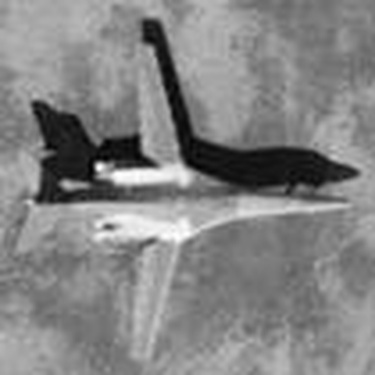airplane: (12, 17, 364, 370)
